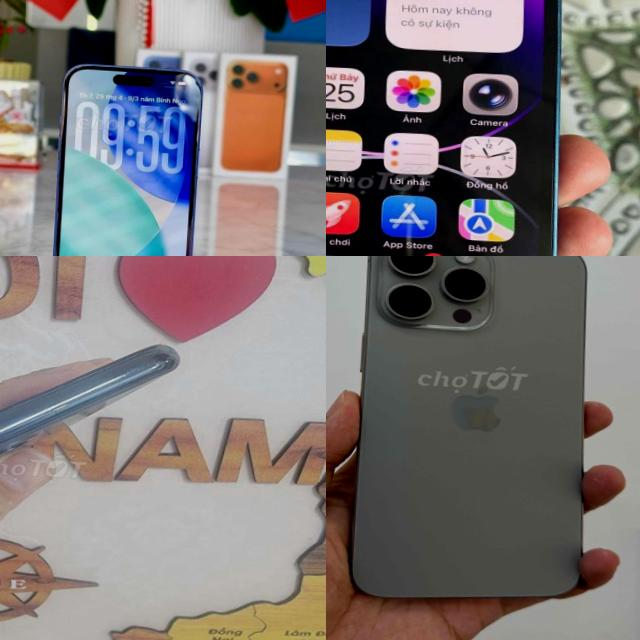gen_11: (0, 324, 204, 508)
gen_12_13: (326, 0, 584, 256)
gen_15: (333, 256, 615, 627)
gen_16: (40, 47, 214, 256)
